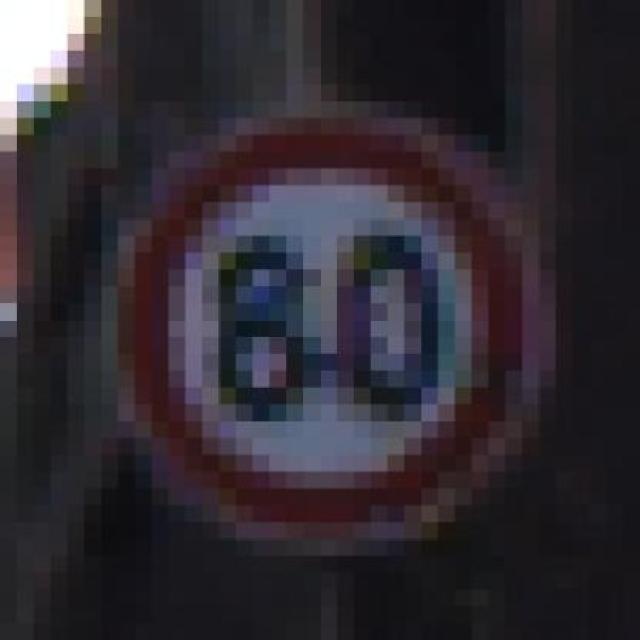forb_speed_over_80: (132, 127, 530, 524)
